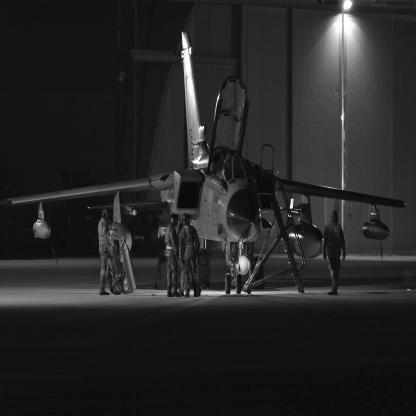Tornado: (1, 32, 409, 296)
